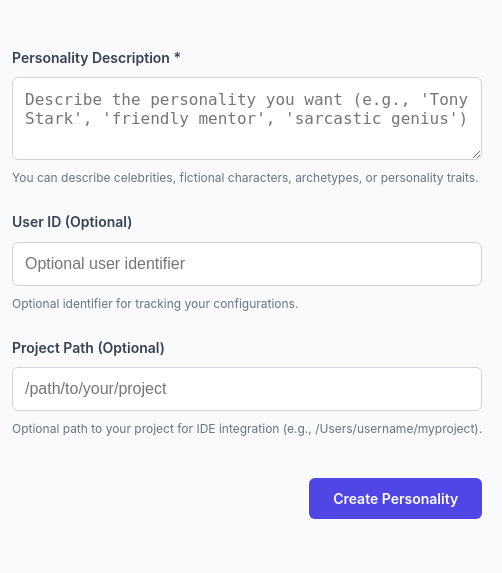
Test case: PersonalityForm › shows validation error for short description
Type "a" into the text box labelled "Personality Description *" at point(247, 118), box [12, 77, 482, 160]
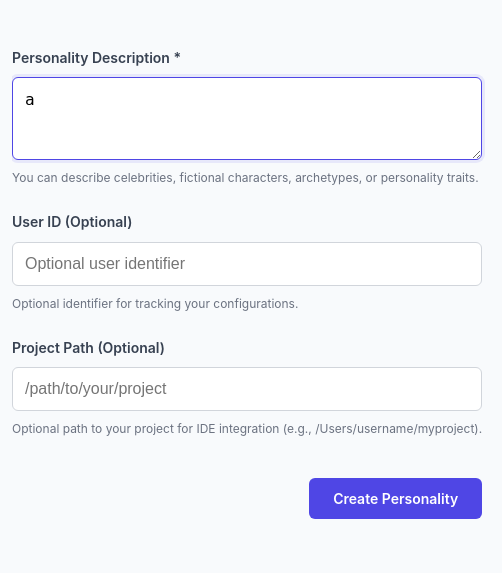
Click the button "Create Personality" at point(396, 499), box [309, 478, 482, 519]
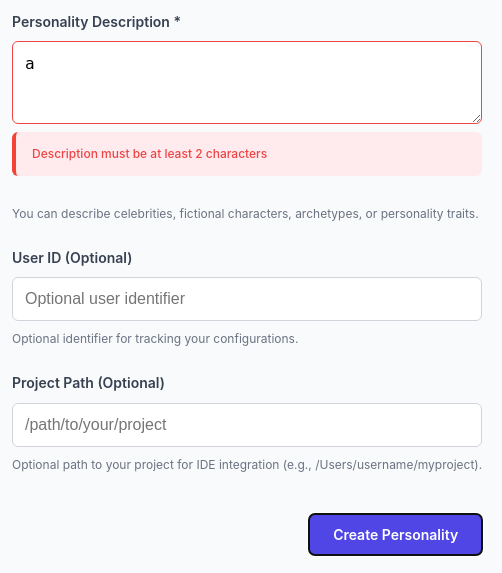
Check: the text "Description must be at least 2 characters" is shown, box [12, 132, 482, 176]
